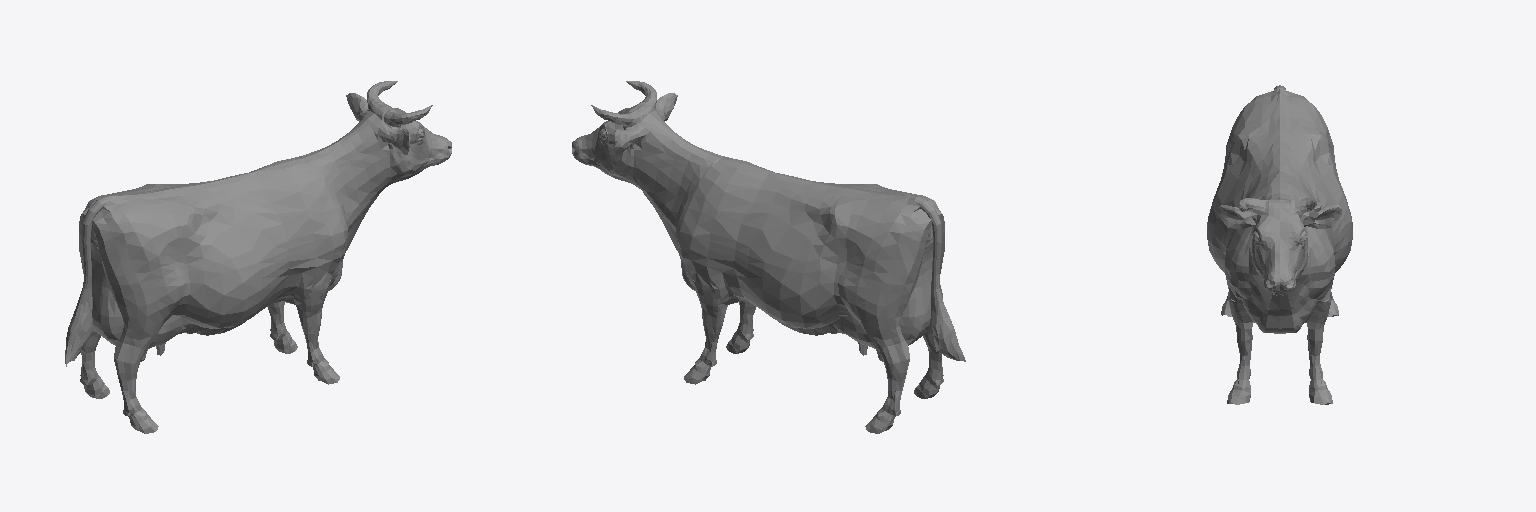
File: cow.obj
3 renders of one model, left to right at view 1: azimuth 30°, elevation 25°; view 2: azimuth 150°, elevation 25°; view 3: azimuth 270°, elevation 25°, orthographic.
Visible parts, largest first — view 1: default; view 2: default; view 3: default.
Boxes of the visible parts, x1,y1,x2,y2 form: default: [65, 81, 451, 433]; default: [572, 81, 965, 433]; default: [1207, 85, 1352, 404].
Bounding box in the file's own units: 0.9491 × 0.5813 × 0.3092.